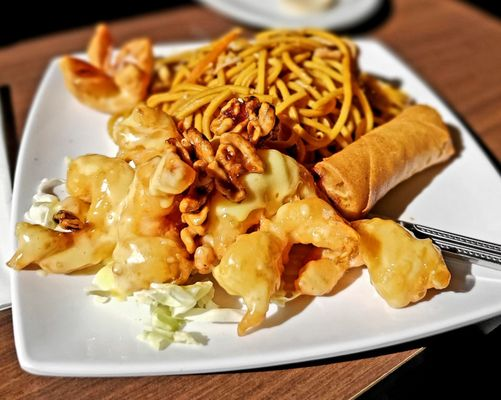sushi: (189, 0, 389, 33)
